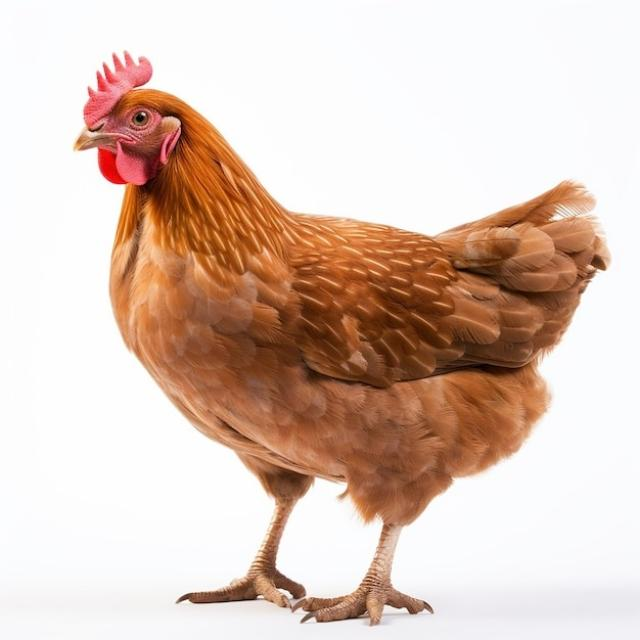Chicken: (74, 46, 612, 628)
